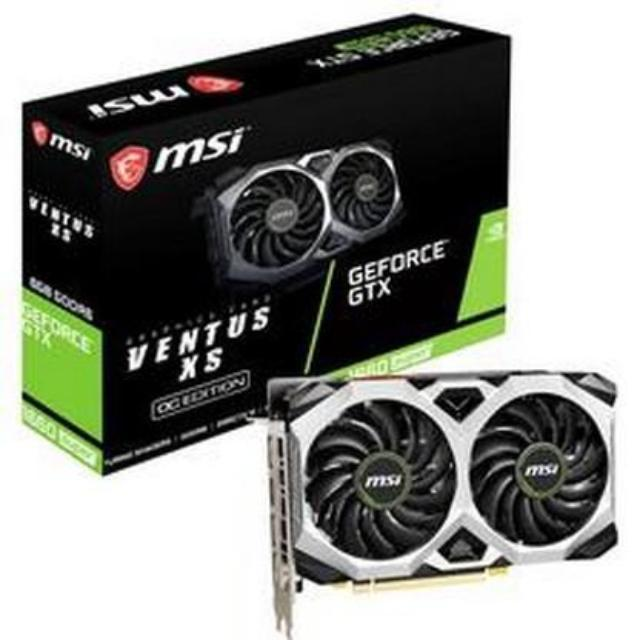GPU: (252, 356, 620, 616)
